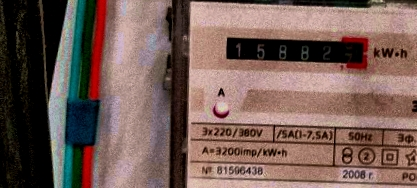1: (232, 39, 243, 57)
2: (320, 42, 332, 61)
5: (254, 41, 266, 59)
7: (342, 51, 354, 62)
8: (275, 41, 288, 59), (298, 42, 310, 61)
screen: (217, 25, 374, 75)
